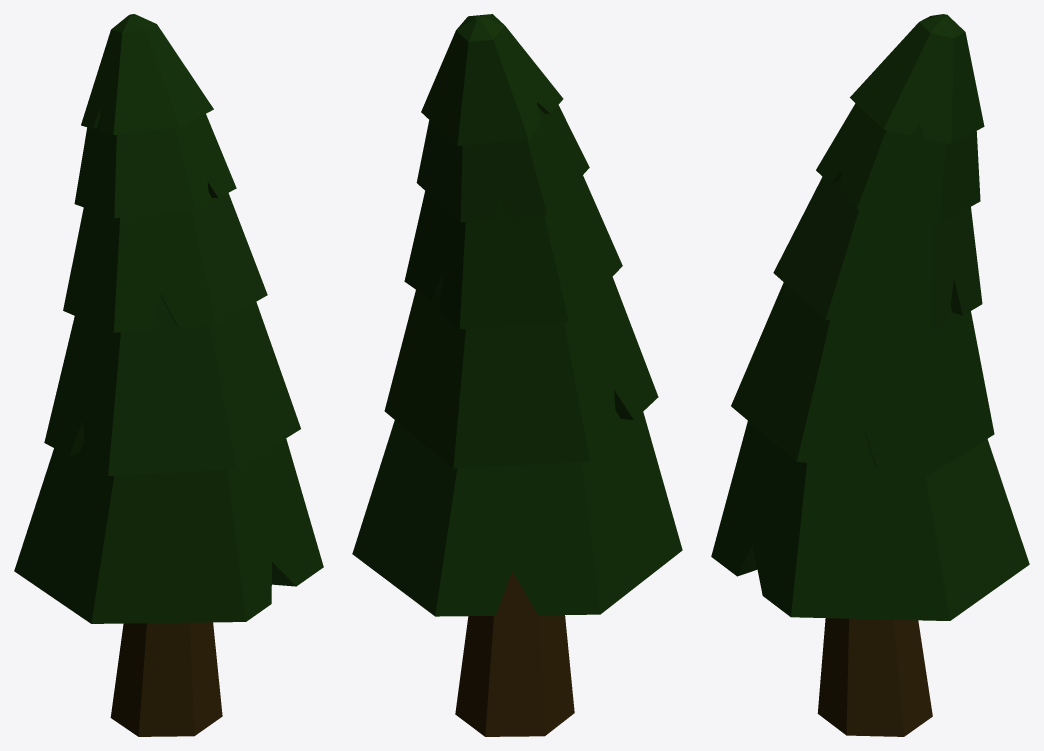
Rendered from arbre2.glb.
3 views of the same model, side by side, from view 1: azimuth 30°, elevation 25°; view 2: azimuth 150°, elevation 25°; view 3: azimuth 270°, elevation 25° (orthographic). The views are drawn at different scales.
Visible parts, largest first — view 1: Cylinder.009; view 2: Cylinder.009; view 3: Cylinder.009.
Boxes of the visible parts, x1,y1,x2,y2 form: Cylinder.009: [14, 14, 323, 736]; Cylinder.009: [352, 14, 682, 736]; Cylinder.009: [711, 14, 1029, 736].
Bounding box in the file's own units: 4.12 × 11.49 × 4.73.
